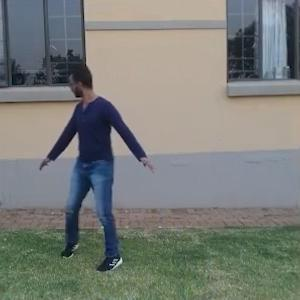land: (35, 56, 154, 262)
